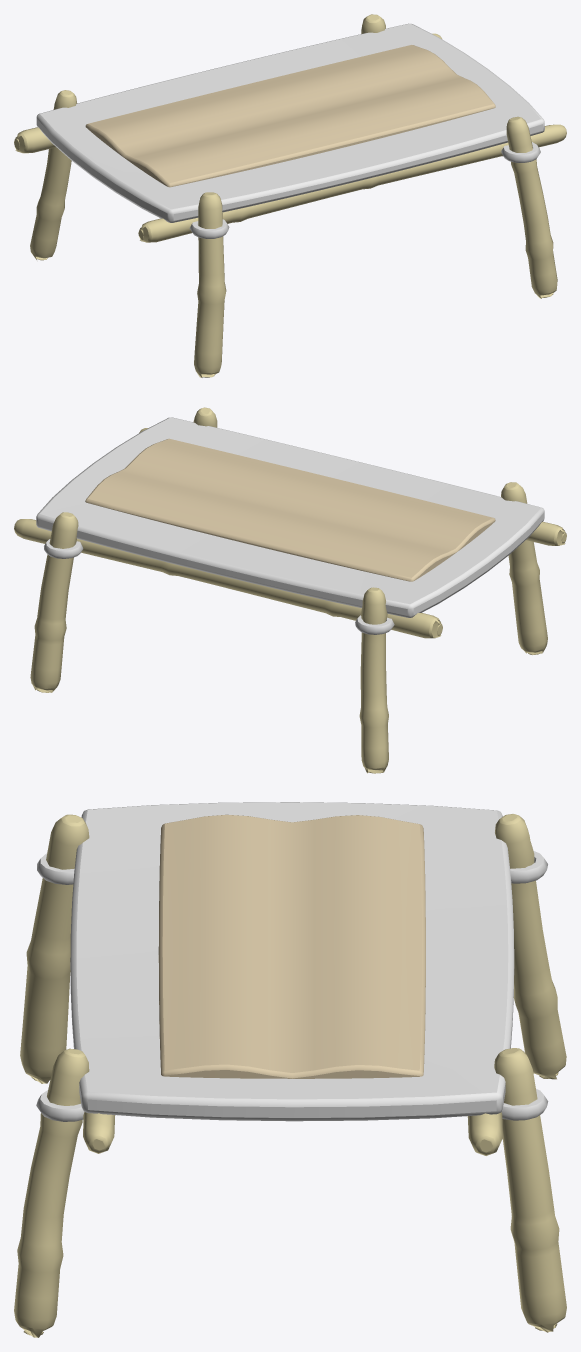
Rendered from pf_fish_rack_3.glb.
3 renders of one model, top to bottom at view 1: azimuth 30°, elevation 25°; view 2: azimuth 150°, elevation 25°; view 3: azimuth 270°, elevation 25°, orthographic. The views are drawn at different scales.
Visible parts, largest first — view 1: fish_rack_3_pf_fishbed, fish_rack_3_pb_net, fish_rack_3_bamboo, fish_rack_3_pb_rope; view 2: fish_rack_3_pf_fishbed, fish_rack_3_pb_net, fish_rack_3_bamboo, fish_rack_3_pb_rope; view 3: fish_rack_3_pf_fishbed, fish_rack_3_pb_net, fish_rack_3_bamboo, fish_rack_3_pb_rope.
Boxes of the visible parts, x1=… form: fish_rack_3_pf_fishbed: x1=85, y1=45, x2=495, y2=187; fish_rack_3_pb_net: x1=36, y1=23, x2=544, y2=222; fish_rack_3_bamboo: x1=14, y1=14, x2=566, y2=377; fish_rack_3_pb_rope: x1=189, y1=142, x2=540, y2=238; fish_rack_3_pf_fishbed: x1=85, y1=438, x2=495, y2=581; fish_rack_3_pb_net: x1=36, y1=417, x2=544, y2=617; fish_rack_3_bamboo: x1=14, y1=407, x2=566, y2=773; fish_rack_3_pb_rope: x1=44, y1=539, x2=394, y2=634; fish_rack_3_pf_fishbed: x1=158, y1=814, x2=425, y2=1078; fish_rack_3_pb_net: x1=70, y1=802, x2=514, y2=1121; fish_rack_3_bamboo: x1=14, y1=814, x2=566, y2=1337; fish_rack_3_pb_rope: x1=36, y1=851, x2=548, y2=1121.
Bounding box in the file's own units: 1.91 × 0.7473 × 1.38.
